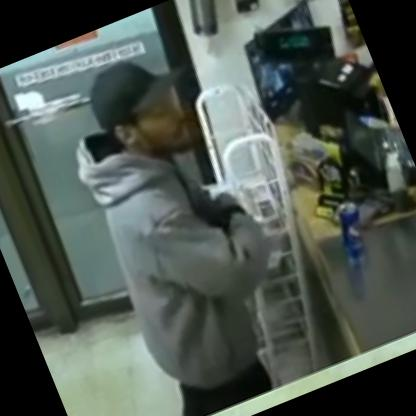Human Body: (33, 32, 324, 415)
